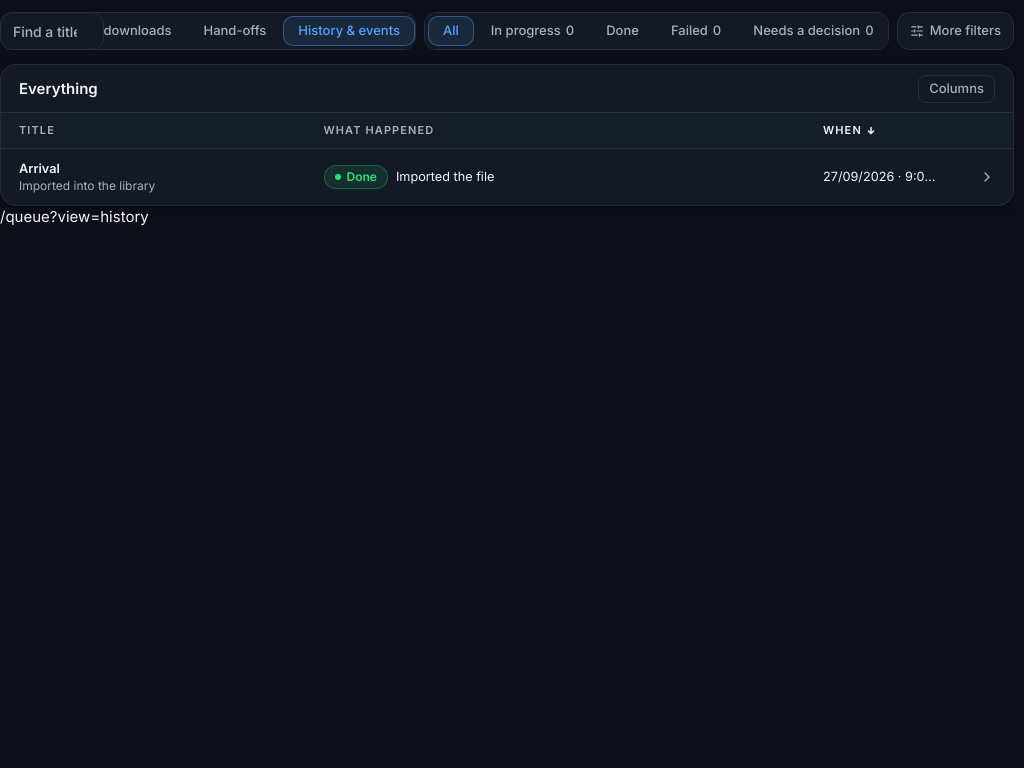
Test: Activity decides an import case from its drawer (#1329) › clicking a File row in an event's drawer goes to that file's history and closes the drawer
Click the text "Imported the file" at (445, 177), box x1=396 y1=169 x2=494 y2=185
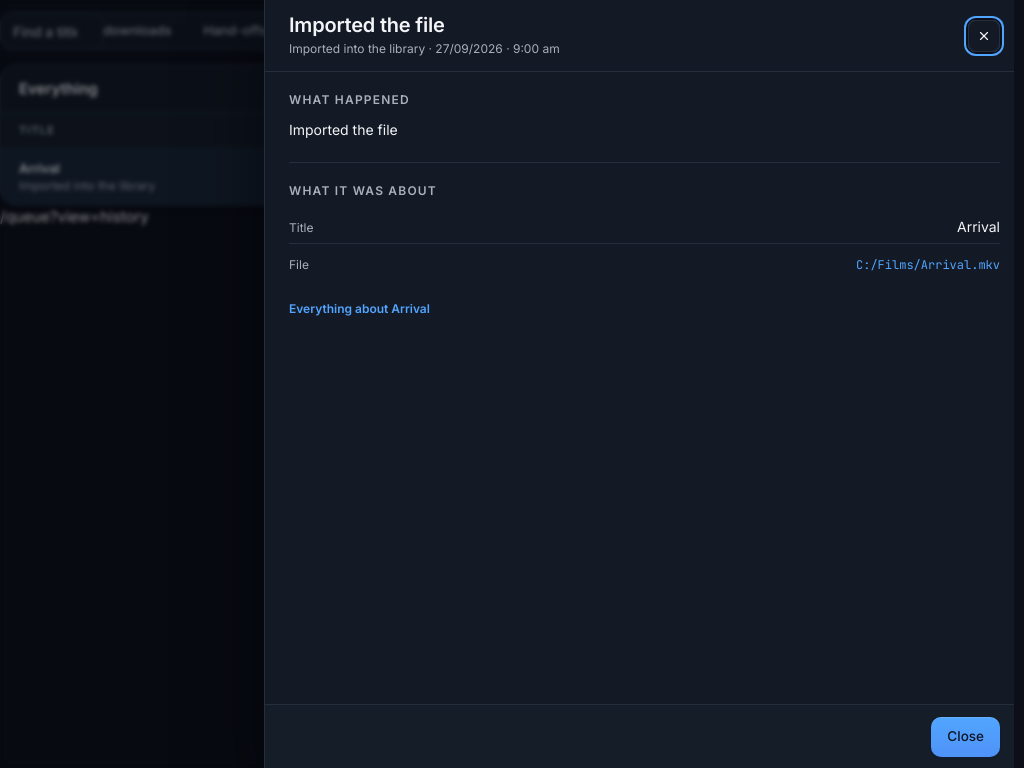
Click the link "C:/Films/Arrival.mkv" at (928, 265), box x1=856 y1=257 x2=1000 y2=273
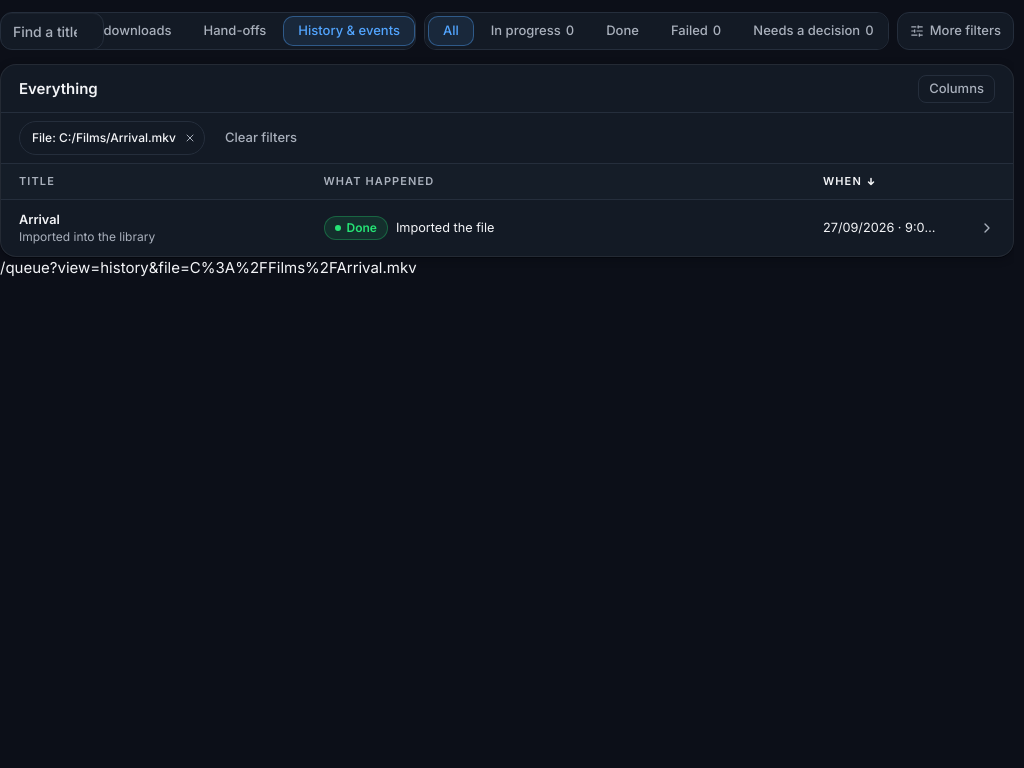
Now the dialog is gone
